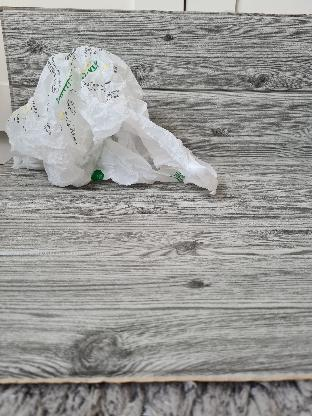Plastic Bag: (8, 44, 220, 188)
